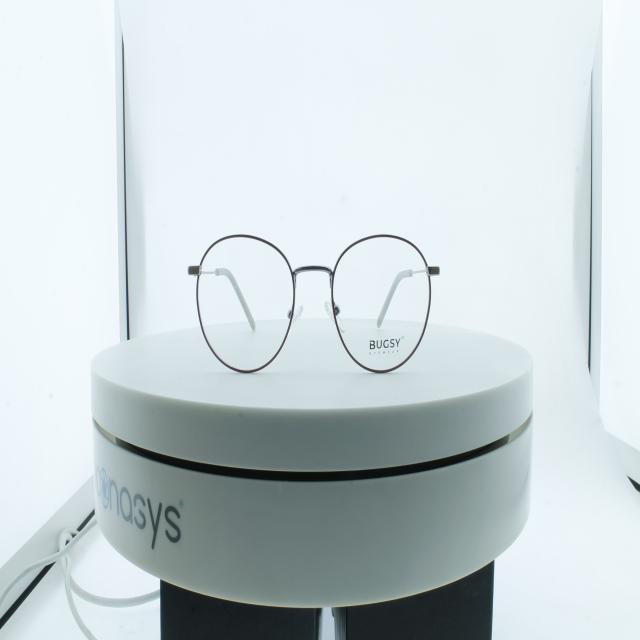Specs: (177, 214, 448, 394)
